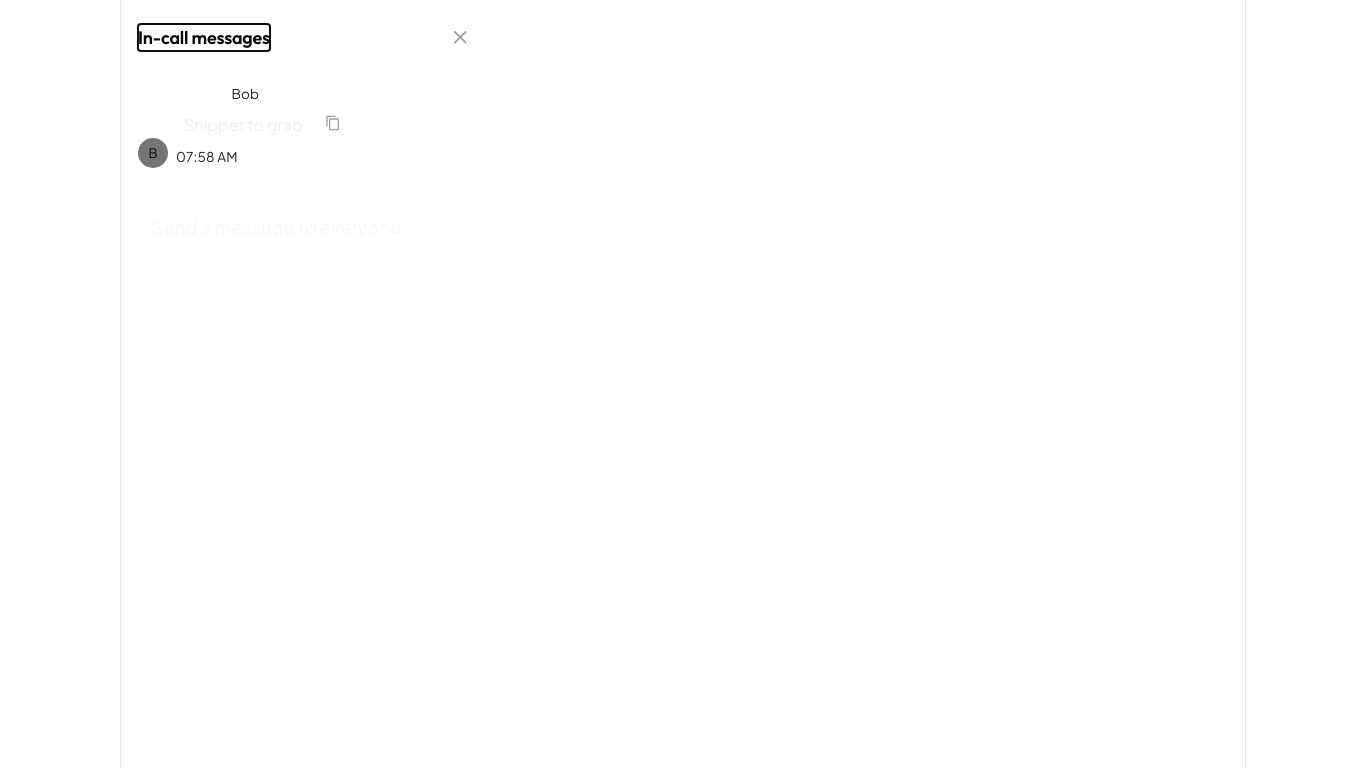
it: ChatPanel › copy message › shows success feedback after a successful copy
Click the button named "Copy message from Bob": click(333, 124) [319, 110, 347, 138]
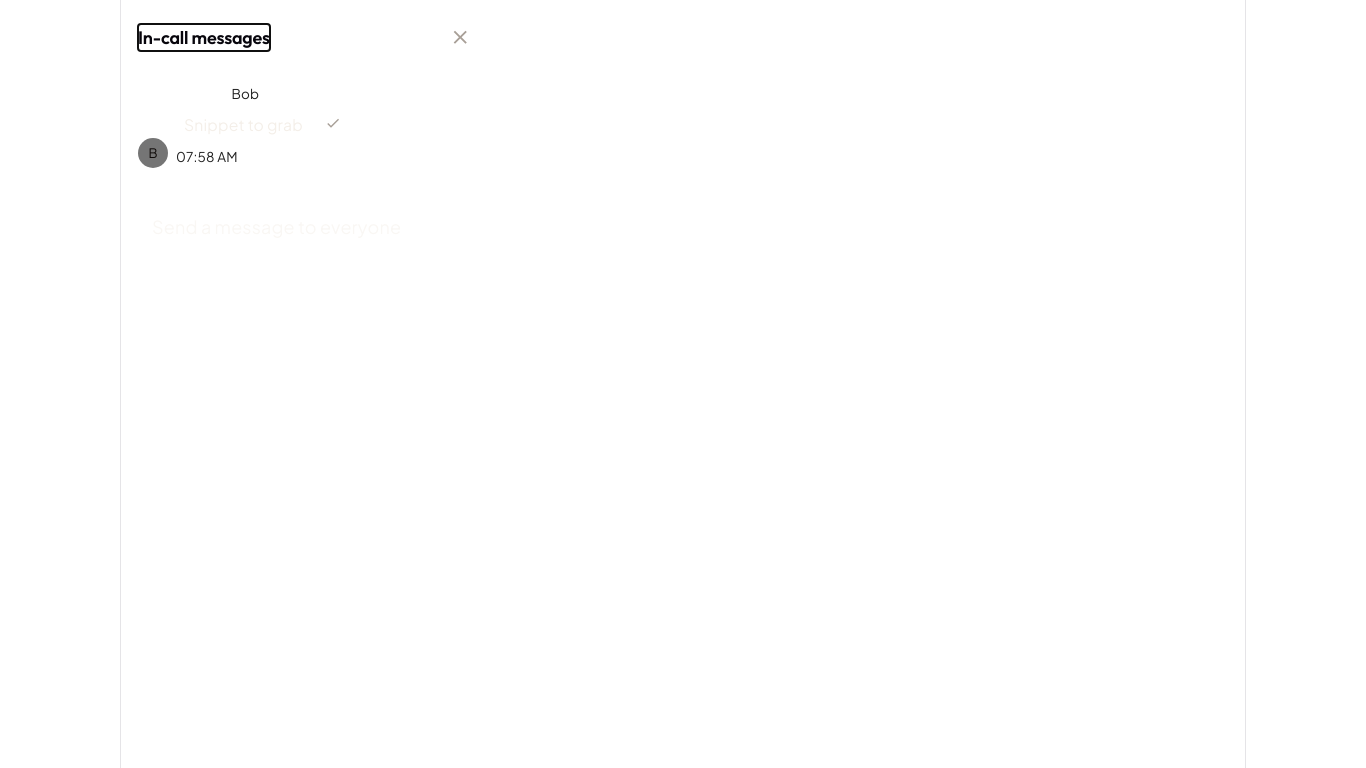
Now the button named "Copied" is shown, box [319, 110, 347, 138]
